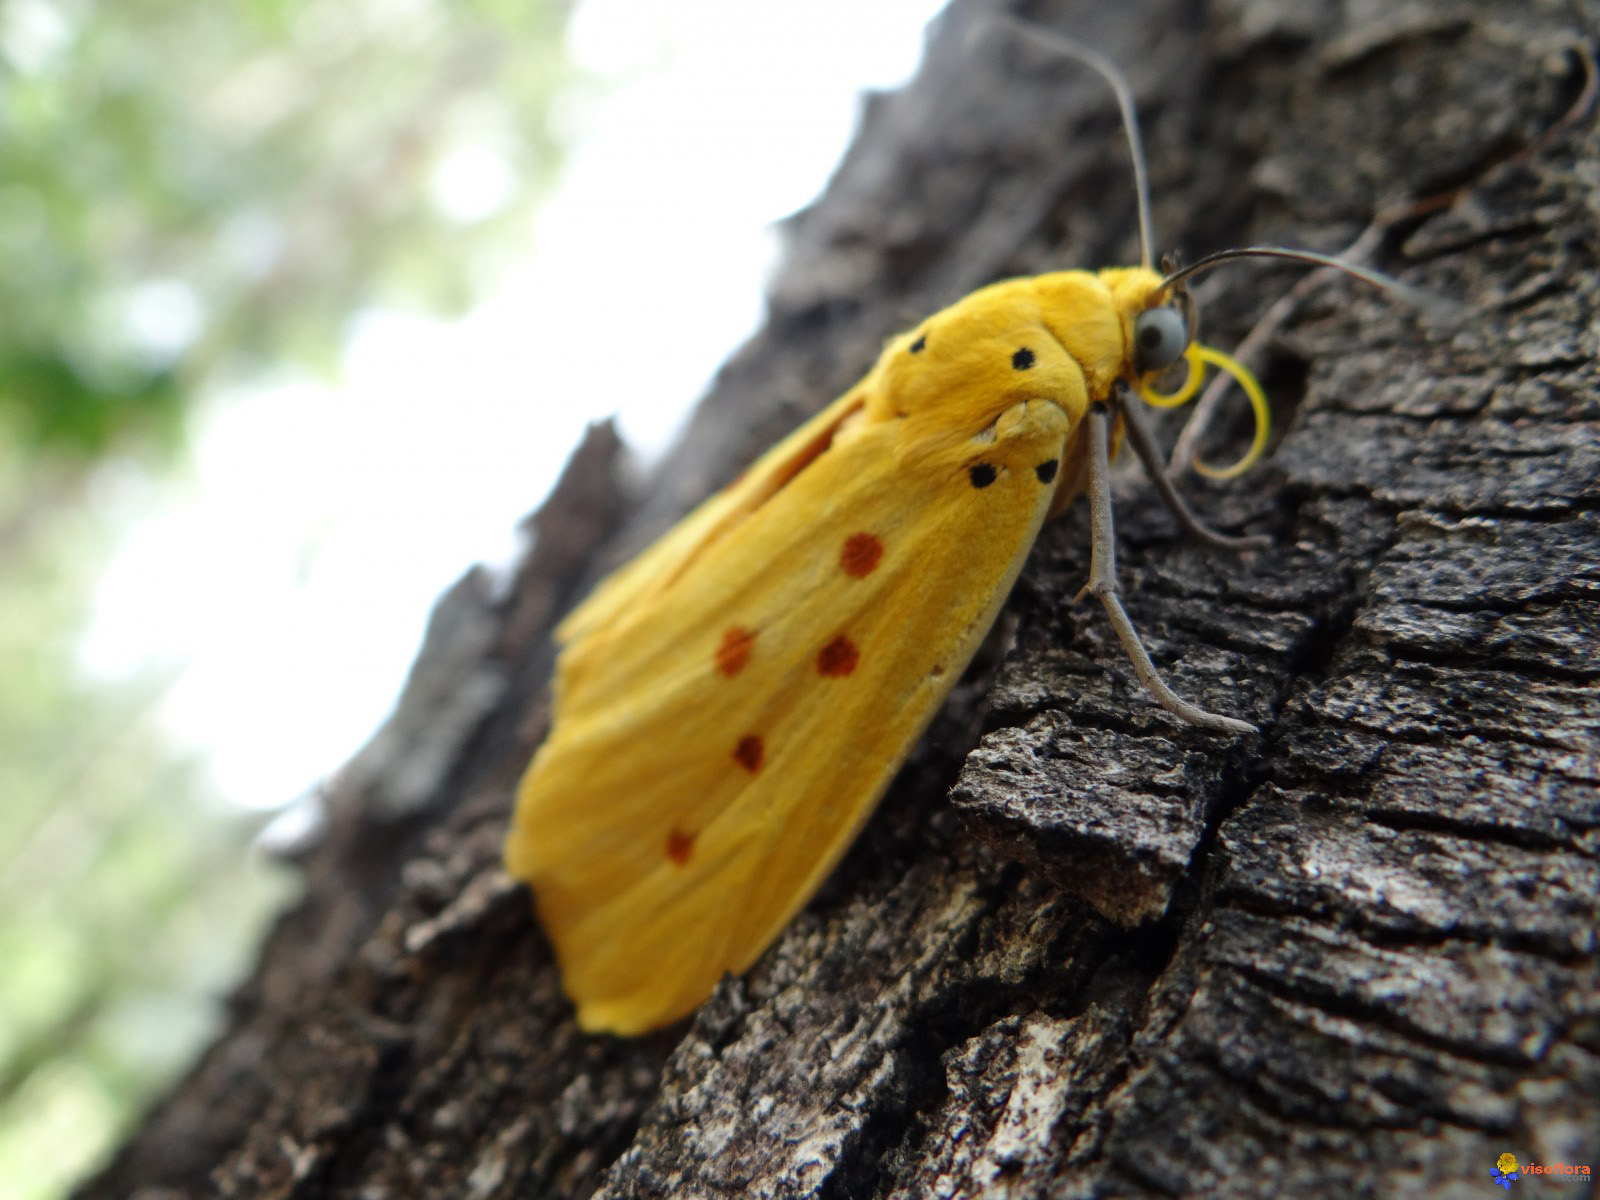Agape chloropyga: (386, 26, 1439, 1046)
moth: (388, 28, 1441, 1047)
